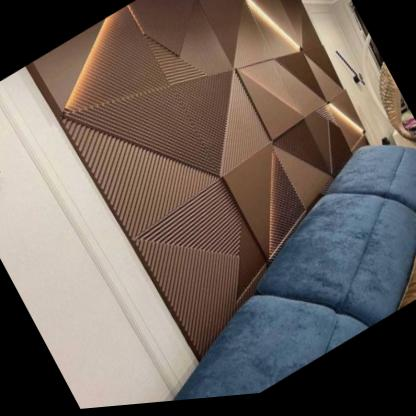Wall Panel: (24, 0, 377, 370)
